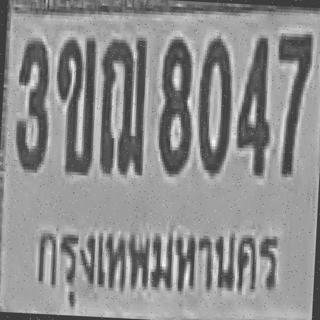A02: (52, 34, 97, 173)
A12: (96, 35, 148, 174)
N00: (195, 35, 232, 174)
N03: (13, 34, 52, 170)
N04: (234, 34, 273, 173)
N07: (270, 30, 312, 175), (272, 31, 312, 153)
N08: (156, 38, 194, 174)
